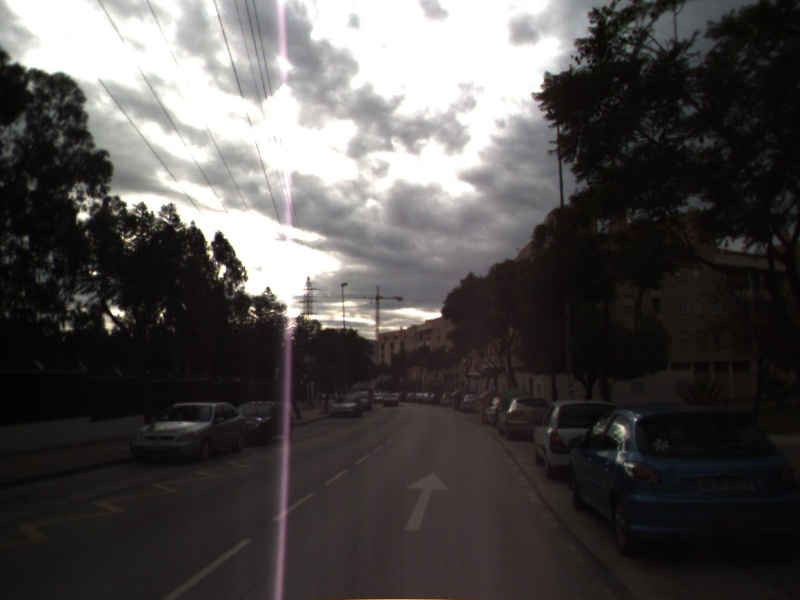STRAIGHT: (402, 469, 452, 533)
